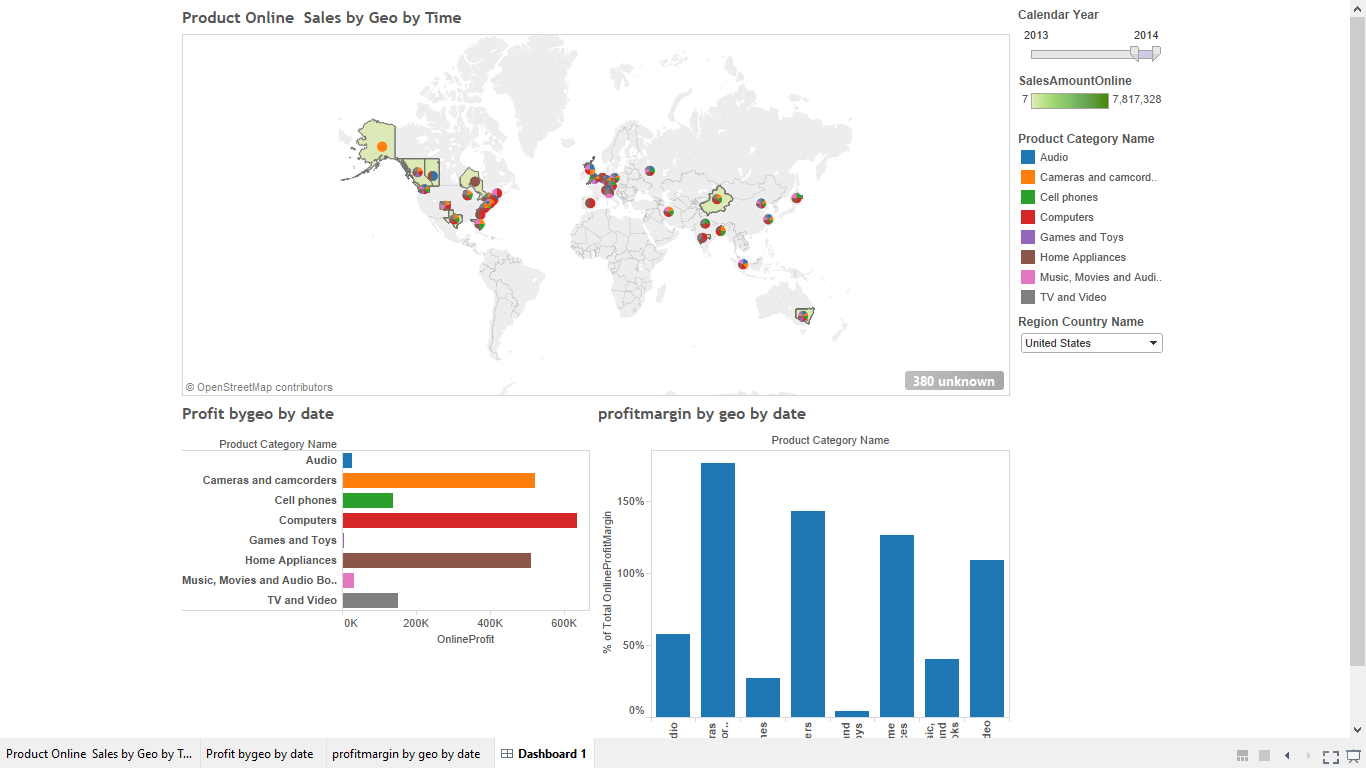

Layout of this report page (visuals, bound fields, positions):
{"tool":"tableau","page":{"name":"Dashboard 1","canvas":[1000,800],"ordinal":0},"visuals":[{"type":"worksheet","title":"Product Online  Sales by Geo by Time","mark":"Automatic","box":[0,0,840,400]},{"type":"filter","title":"Product Online  Sales by Geo by Time","param":"[genericodbc.42354.029873807871].[none:CalendarYear:qk]","box":[840,0,160,70]},{"type":"legend","title":"Product Online  Sales by Geo by Time","param":"[genericodbc.42354.029873807871].[sum:SalesAmount (FactOnlineSales):qk]","box":[840,70,160,58]},{"type":"legend","title":"Product Online  Sales by Geo by Time","param":"[genericodbc.42354.029873807871].[none:ProductCategoryName:nk]","box":[840,128,160,183]},{"type":"filter","title":"Profit bygeo by date","param":"[genericodbc.42354.029873807871].[none:RegionCountryName:nk]","box":[840,311,160,49]},{"type":"worksheet","title":"Profit bygeo by date","mark":"Automatic","rows":["ProductCategoryName"],"cols":["Calculation_94857097407037442"],"box":[0,400,420,400]},{"type":"worksheet","title":"profitmargin by geo by date","mark":"Automatic","rows":["Calculation_94857097407213571"],"cols":["ProductCategoryName"],"box":[420,400,420,400]}]}

Visuals, with their boxes on the page's 1000x800 design canvas (x1, y1, x2, y2). These are canvas units, not pixel positions in the 1366x768 screenshot, which may show the page scaled, cropped or inside an application window:
"Product Online  Sales by Geo by Time" worksheet: region(0, 0, 840, 400)
"Product Online  Sales by Geo by Time" filter: region(840, 0, 1000, 70)
"Product Online  Sales by Geo by Time" legend: region(840, 70, 1000, 128)
"Product Online  Sales by Geo by Time" legend: region(840, 128, 1000, 311)
"Profit bygeo by date" filter: region(840, 311, 1000, 360)
"Profit bygeo by date" worksheet: region(0, 400, 420, 800)
"profitmargin by geo by date" worksheet: region(420, 400, 840, 800)
